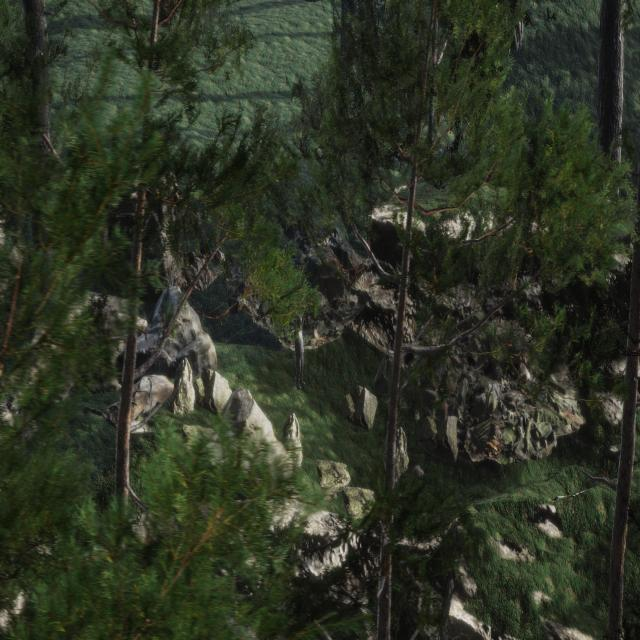Human: (292, 293, 313, 393)
